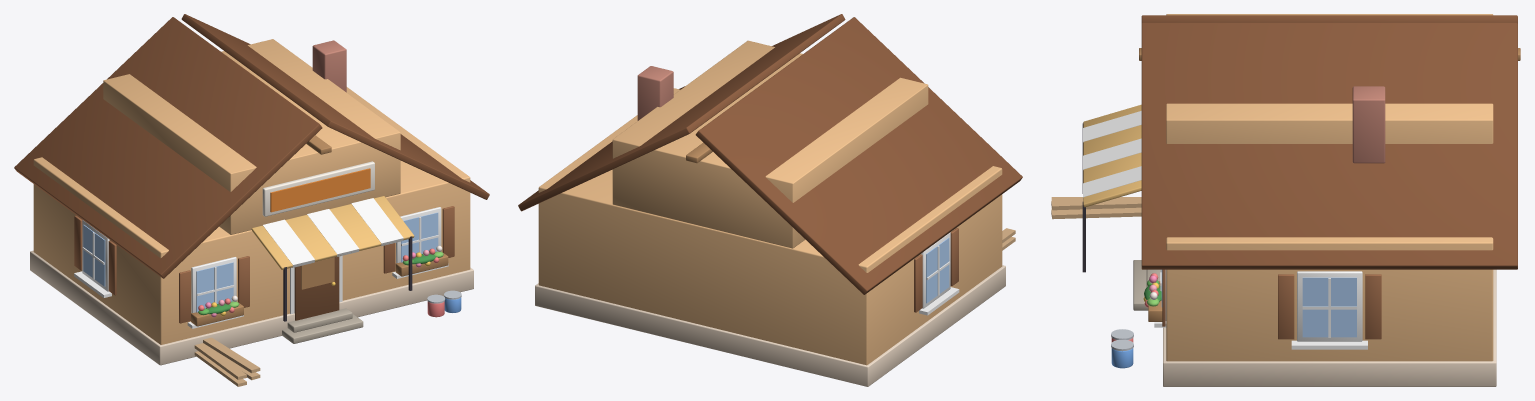
File: shop_baumarkt.glb
3 renders of one model, left to right at view 1: azimuth 30°, elevation 25°; view 2: azimuth 150°, elevation 25°; view 3: azimuth 270°, elevation 25°, orthographic. The views are drawn at different scales.
Parts seen in each view (by area): view 1: shop_baumarkt; view 2: shop_baumarkt; view 3: shop_baumarkt.
Part boxes in pixels (x1,y1,x2,y2): shop_baumarkt: (14, 14, 489, 386); shop_baumarkt: (518, 14, 1022, 386); shop_baumarkt: (1051, 14, 1520, 386).
Bounding box in the file's own units: 8.93 × 5.46 × 8.61.
